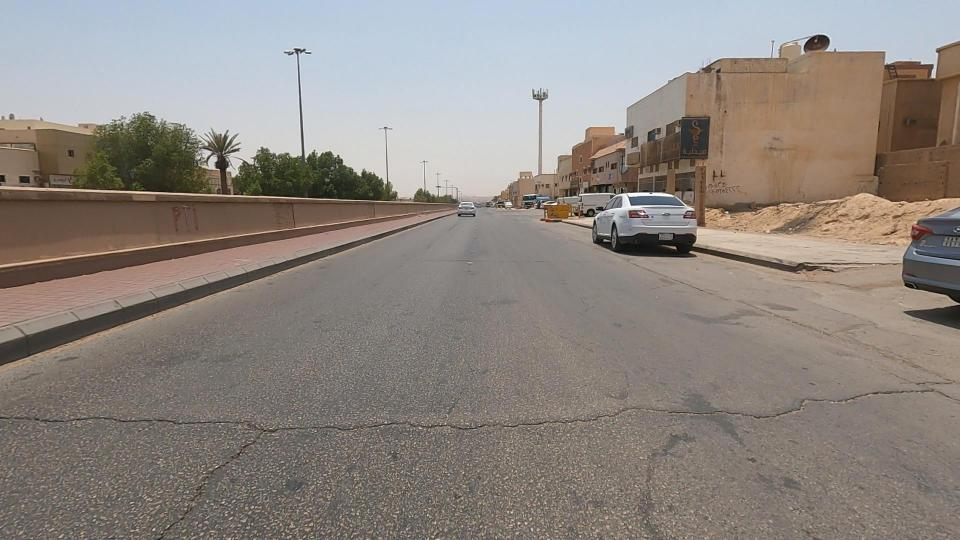BAD_BILLBOARD: (606, 109, 692, 189), (623, 108, 719, 172)
GRAFFITI: (671, 139, 780, 229)
SAND_ON_ROAD: (763, 168, 957, 285)
